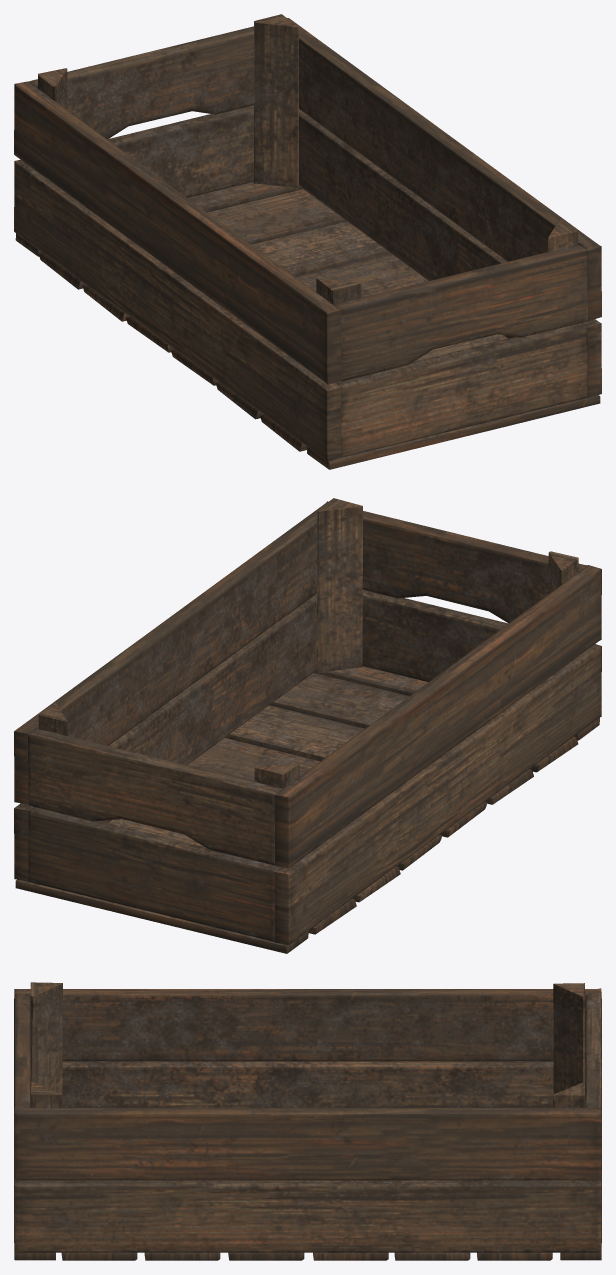
The model's file is SM_Caddy.fbx.
3 views of the same model, one above another, from view 1: azimuth 30°, elevation 25°; view 2: azimuth 150°, elevation 25°; view 3: azimuth 270°, elevation 25° (orthographic). The views are drawn at different scales.
Parts seen in each view (by area): view 1: SM_Caddy_LOD0; view 2: SM_Caddy_LOD0; view 3: SM_Caddy_LOD0.
Part boxes in pixels (x1,y1,x2,y2): SM_Caddy_LOD0: (14,14,601,469); SM_Caddy_LOD0: (14,498,601,953); SM_Caddy_LOD0: (14,982,601,1260).
Size of the model in its own units: 35.77 by 70 by 21.02.
